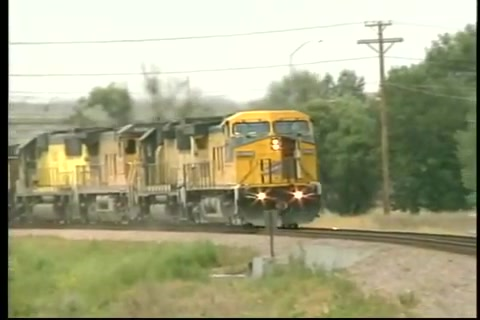train: (10, 110, 324, 230)
